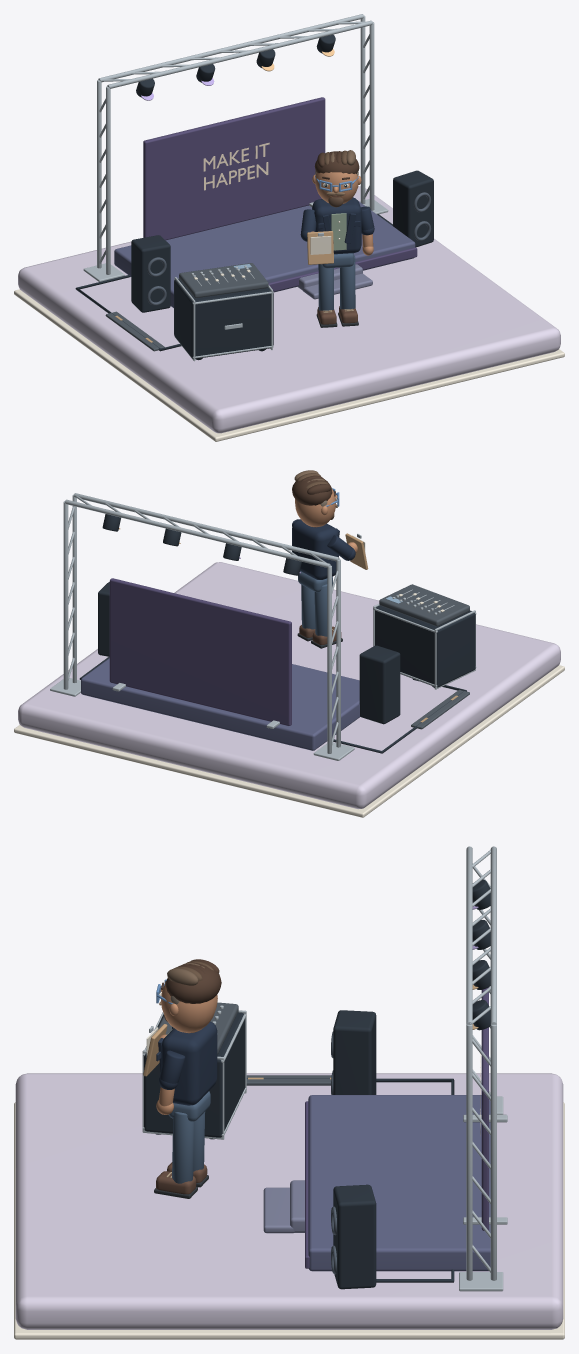
File: events.glb
The picture shows the model from 3 angles, top to bottom: view 1: azimuth 30°, elevation 25°; view 2: azimuth 150°, elevation 25°; view 3: azimuth 270°, elevation 25°; orthographic projection. The views are drawn at different scales.
Parts seen in each view (by area): view 1: Square floating plinth.003, Event graphic, Stage deck, Console roadcase, Ivory lower edge.003, Speaker cabinet, Speaker cabinet.001, Mixing console, Truss beam.001, Truss beam, Jacket body.003, Truss upright.003 (+10 smaller); view 2: Square floating plinth.003, Event graphic, Stage deck, Console roadcase, Ivory lower edge.003, Speaker cabinet, Mixing console, Jacket body.003, Truss beam, Truss beam.001, Truss upright.002, Truss upright (+10 smaller); view 3: Square floating plinth.003, Stage deck, Ivory lower edge.003, Speaker cabinet.001, Console roadcase, Speaker cabinet, Jacket body.003, Truss upright.003, Truss upright.002, Event graphic, Trouser leg.005, Face.003 (+12 smaller).
Boxes of the visible parts, <box> form: Square floating plinth.003: <box>18,186,560,433</box>; Event graphic: <box>143,97,325,240</box>; Stage deck: <box>114,197,415,307</box>; Console roadcase: <box>174,278,273,358</box>; Ivory lower edge.003: <box>14,289,564,441</box>; Speaker cabinet: <box>131,235,170,312</box>; Speaker cabinet.001: <box>393,170,433,247</box>; Mixing console: <box>179,263,268,298</box>; Truss beam.001: <box>107,20,372,88</box>; Truss beam: <box>98,14,363,82</box>; Jacket body.003: <box>312,197,361,254</box>; Truss upright.003: <box>369,22,374,210</box>; Square floating plinth.003: <box>18,562,560,809</box>; Event graphic: <box>109,578,291,725</box>; Stage deck: <box>81,658,360,750</box>; Console roadcase: <box>375,605,475,687</box>; Ivory lower edge.003: <box>14,665,564,817</box>; Speaker cabinet: <box>359,645,400,724</box>; Mixing console: <box>379,584,469,626</box>; Jacket body.003: <box>292,519,338,579</box>; Truss beam: <box>65,499,330,567</box>; Truss beam.001: <box>74,493,339,561</box>; Truss upright.002: <box>63,501,68,689</box>; Truss upright: <box>327,565,331,753</box>; Square floating plinth.003: <box>15,1073,563,1329</box>; Stage deck: <box>308,1095,490,1271</box>; Ivory lower edge.003: <box>14,1102,564,1339</box>; Speaker cabinet.001: <box>333,1184,376,1289</box>; Console roadcase: <box>144,1012,245,1137</box>; Speaker cabinet: <box>333,1010,376,1094</box>; Jacket body.003: <box>161,1021,217,1105</box>; Truss upright.003: <box>466,1024,472,1280</box>; Truss upright.002: <box>490,1024,496,1280</box>; Event graphic: <box>481,987,488,1230</box>; Trouser leg.005: <box>172,1112,194,1183</box>; Face.003: <box>161,980,217,1032</box>.
Bounding box in the file's own units: 5.23 × 3.15 × 5.23.
